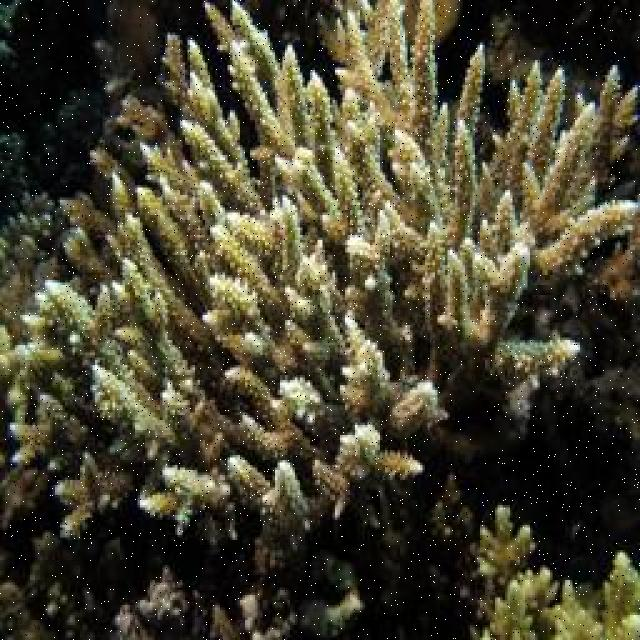reefs: (9, 0, 638, 552)
